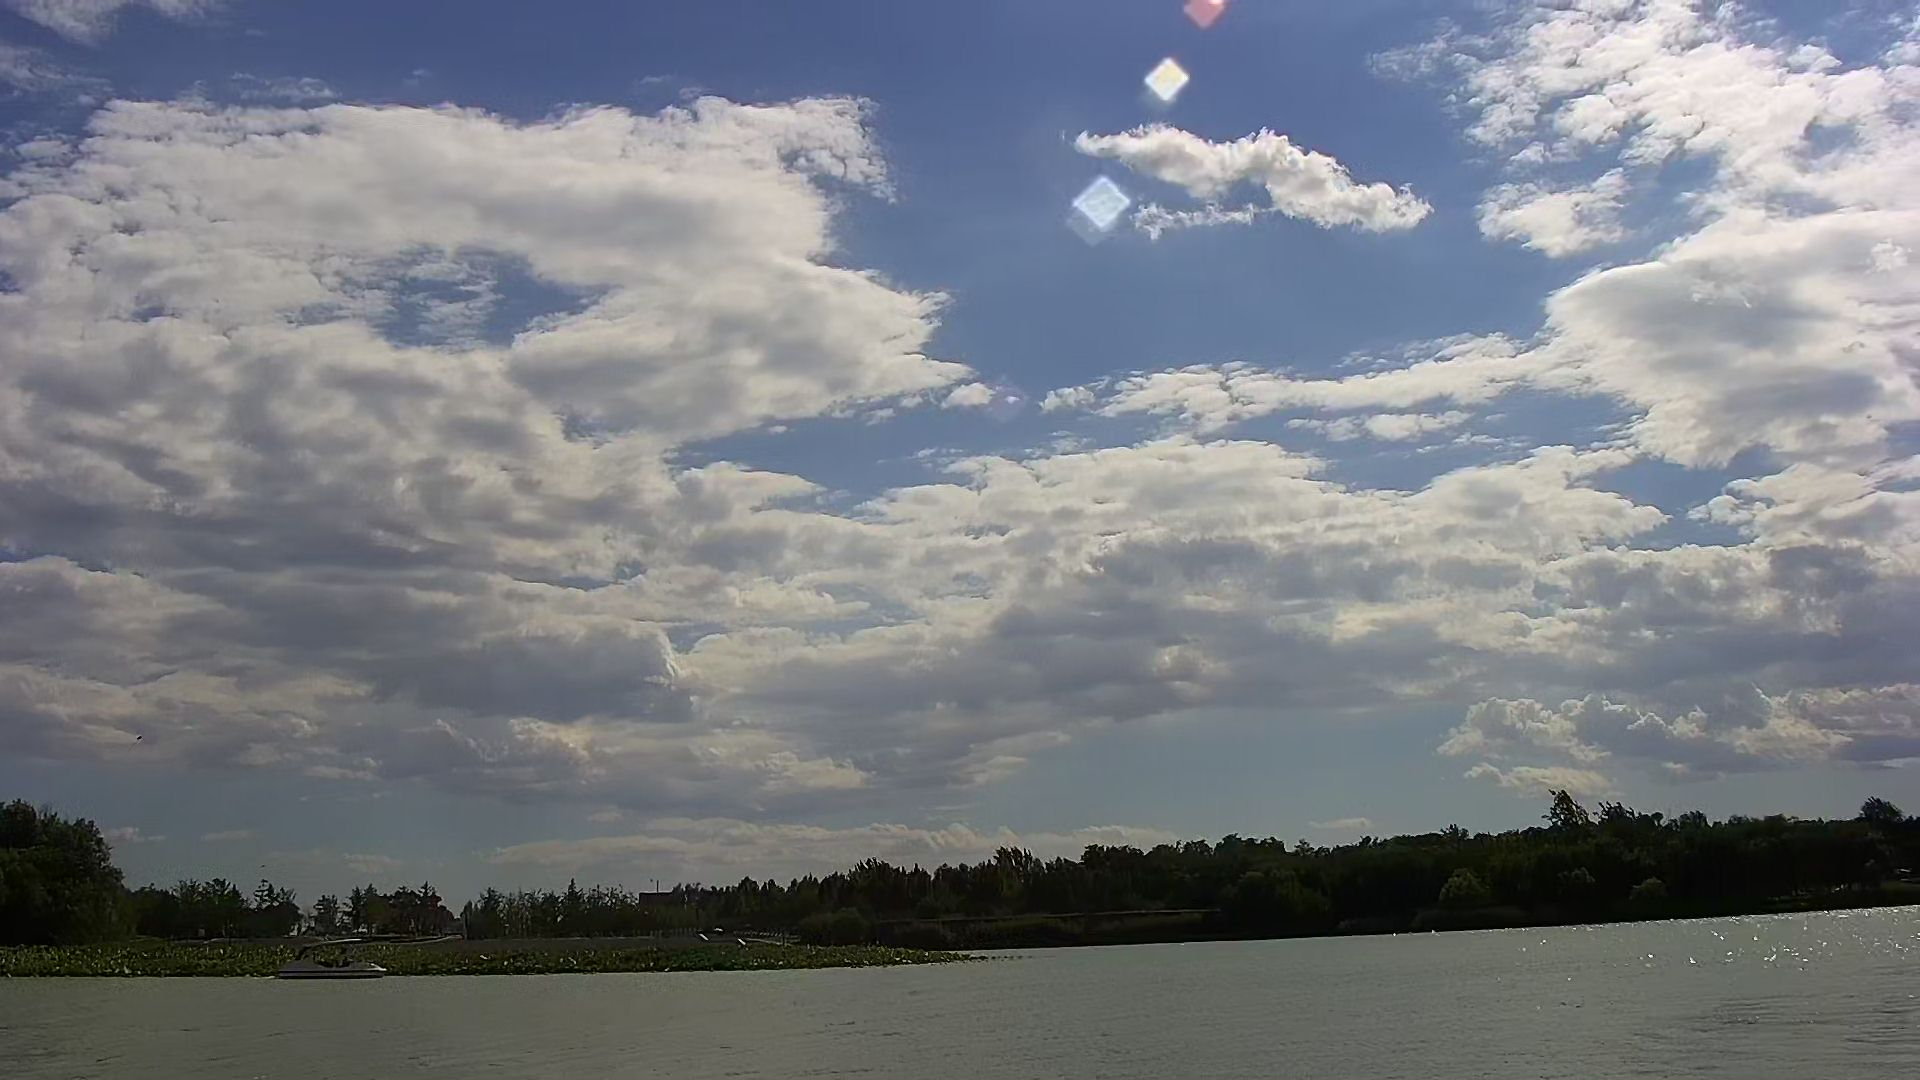boat: (276, 939, 407, 988)
